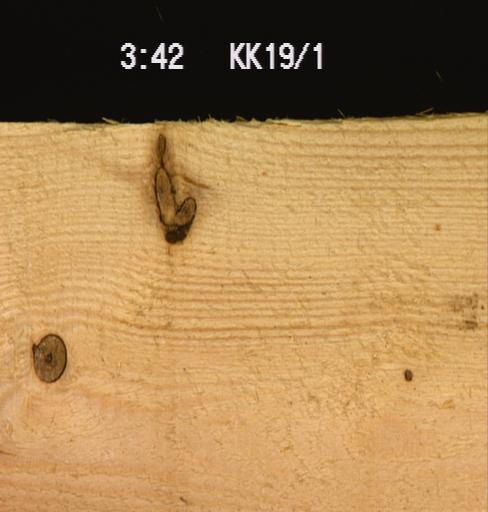dry_knot: (29, 331, 67, 383)
small_knot: (400, 365, 414, 382)
